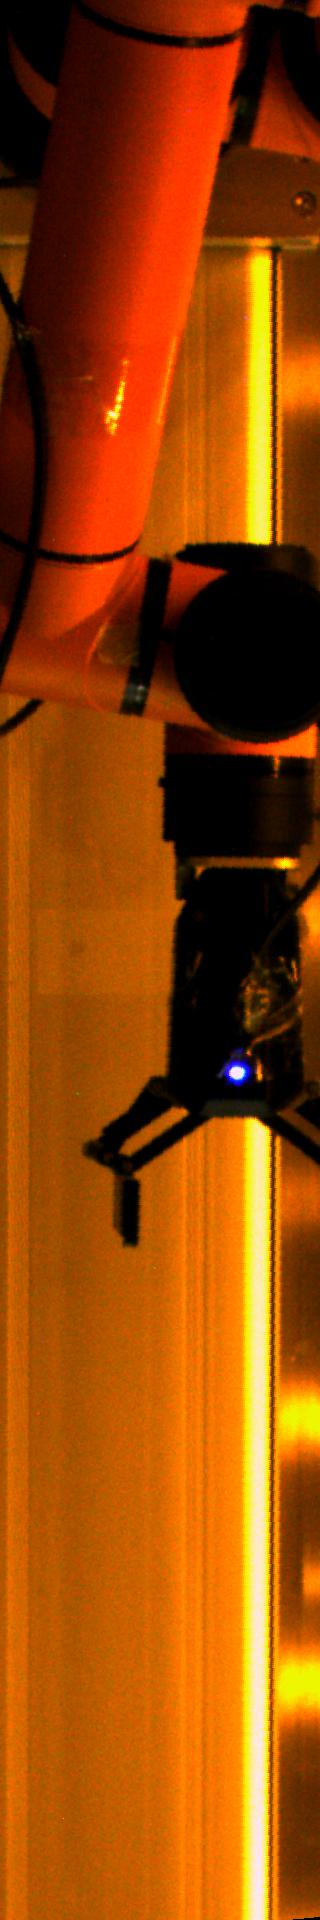keyPoint_1: (222, 1056, 253, 1085)
